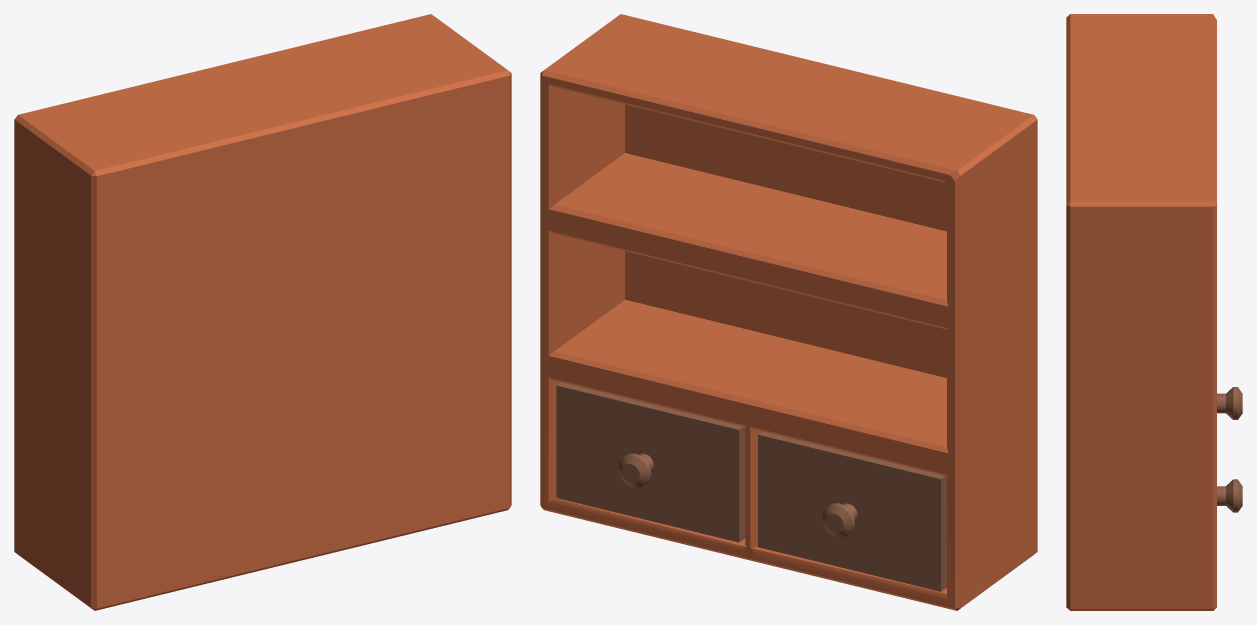
Rendered from Props_Bookshelf_01.fbx.
3 renders of one model, left to right at view 1: azimuth 30°, elevation 25°; view 2: azimuth 150°, elevation 25°; view 3: azimuth 270°, elevation 25°, orthographic. The views are drawn at different scales.
Visible parts, largest first — view 1: Props_Bookshelf_01; view 2: Props_Bookshelf_01; view 3: Props_Bookshelf_01.
Part boxes in pixels (x1,y1,x2,y2): Props_Bookshelf_01: (14, 14, 511, 610); Props_Bookshelf_01: (540, 14, 1037, 610); Props_Bookshelf_01: (1066, 14, 1242, 610).
Bounding box in the file's own units: 300 × 300 × 117.
